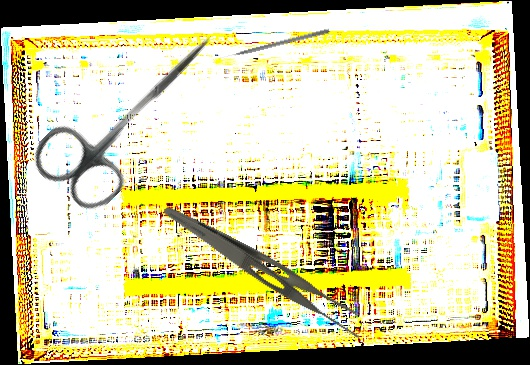Dressing Forceps: (150, 204, 375, 342)
Iris Scissors: (24, 1, 241, 223)
Pusher: (217, 27, 331, 61)
